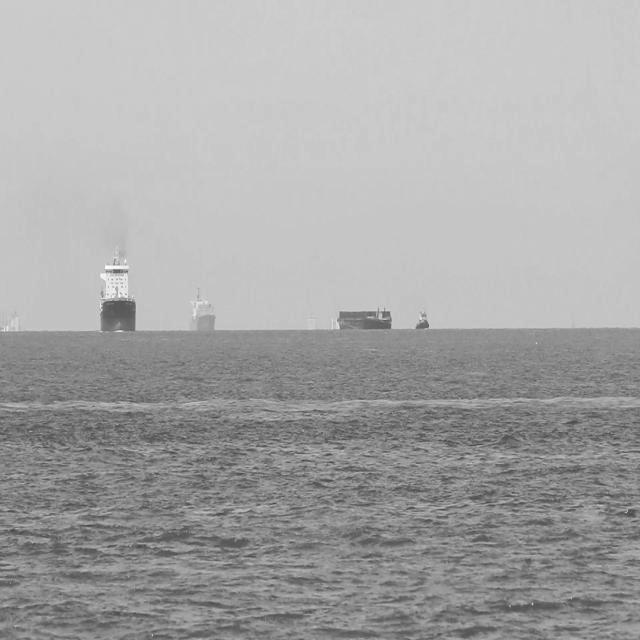ship: (96, 244, 138, 338), (186, 284, 217, 340), (335, 306, 393, 334), (413, 304, 433, 336)
